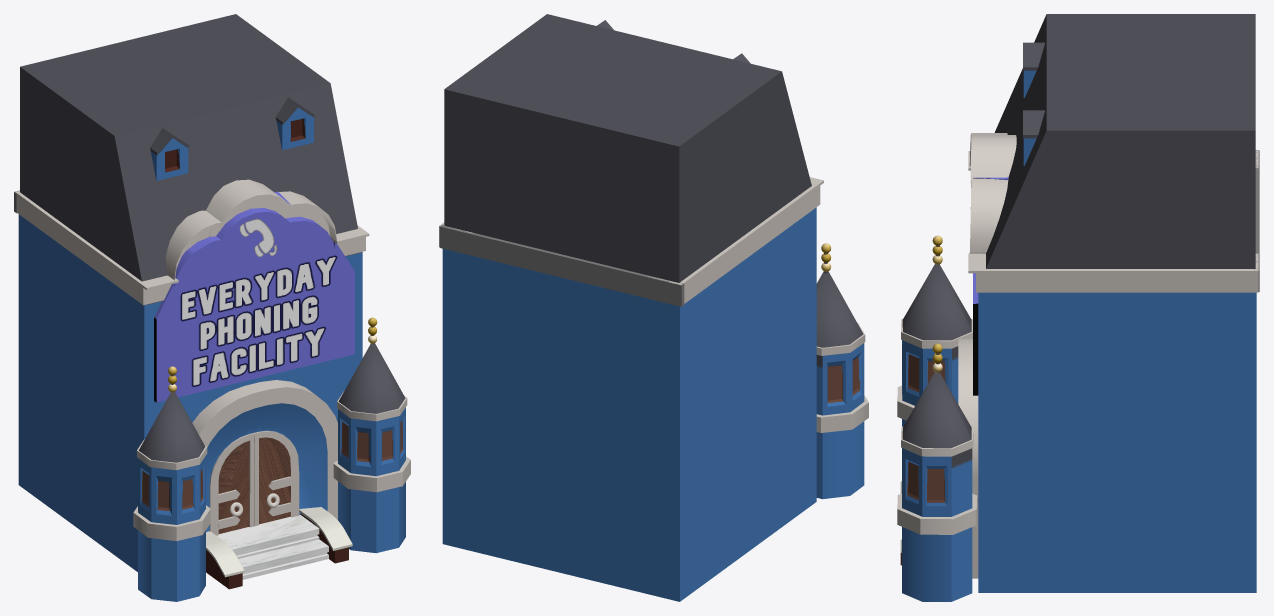
File: Edificio.obj
3 views of the same model, side by side, from view 1: azimuth 30°, elevation 25°; view 2: azimuth 150°, elevation 25°; view 3: azimuth 270°, elevation 25° (orthographic). The views are drawn at different scales.
Parts seen in each view (by area): view 1: polySurface1, pCube1, polySurface13, pasted__pasted__pasted__pasted__pCube3 pasted__pasted__pasted__g, group39 pasted__pasted__pasted__pCube3 pasted__pasted__group36 p, pCube2, pasted__pCube2 group24, polySurface24, polySurface3, pasted__polySurface5 group15, polySurface29, polySurface26 (+8 smaller); view 2: pCube1, polySurface1, group39 pasted__pasted__pasted__pCube3 pasted__pasted__group36 p, pasted__pCube3 group9, pasted__polySurface5 group15, pasted__pasted__pCube3 pasted__group31 group39; view 3: pCube1, polySurface1, pasted__pasted__pasted__pasted__pCube3 pasted__pasted__pasted__g, polySurface5, group39 pasted__pasted__pasted__pCube3 pasted__pasted__group36 p, polySurface3, pasted__pCube2 group24, pasted__pasted__pCube3 pasted__group31 group37, polySurface13, pasted__pasted__pasted__pCube3 pasted__pasted__group31 pasted__g, pasted__pCube3 group9, pasted__polySurface15 group21 (+1 smaller).
Part boxes in pixels (x1=…): polySurface1: x1=20, y1=14, x2=362, y2=304; pCube1: x1=18, y1=214, x2=362, y2=571; polySurface13: x1=154, y1=191, x2=354, y2=402; pasted__pasted__pasted__pasted__pCube3 pasted__pasted__pasted__g: x1=137, y1=343, x2=405, y2=553; group39 pasted__pasted__pasted__pCube3 pasted__pasted__group36 p: x1=138, y1=392, x2=205, y2=601; pCube2: x1=206, y1=403, x2=327, y2=533; pasted__pCube2 group24: x1=192, y1=380, x2=337, y2=519; polySurface24: x1=217, y1=515, x2=328, y2=579; polySurface3: x1=166, y1=179, x2=336, y2=280; pasted__polySurface5 group15: x1=16, y1=191, x2=178, y2=305; polySurface29: x1=209, y1=430, x2=299, y2=535; polySurface26: x1=206, y1=531, x2=244, y2=589; pCube1: x1=442, y1=207, x2=816, y2=601; polySurface1: x1=444, y1=14, x2=811, y2=282; group39 pasted__pasted__pasted__pCube3 pasted__pasted__group36 p: x1=816, y1=271, x2=864, y2=499; pasted__pCube3 group9: x1=440, y1=224, x2=684, y2=306; pasted__polySurface5 group15: x1=648, y1=177, x2=823, y2=303; pasted__pasted__pCube3 pasted__group31 group39: x1=816, y1=395, x2=868, y2=432; pCube1: x1=978, y1=292, x2=1256, y2=592; polySurface1: x1=986, y1=14, x2=1255, y2=268; pasted__pasted__pasted__pasted__pCube3 pasted__pasted__pasted__g: x1=901, y1=318, x2=972, y2=601; polySurface5: x1=968, y1=253, x2=1258, y2=292; group39 pasted__pasted__pasted__pCube3 pasted__pasted__group36 p: x1=902, y1=264, x2=971, y2=426; polySurface3: x1=969, y1=133, x2=1016, y2=253; pasted__pCube2 group24: x1=958, y1=338, x2=978, y2=578; pasted__pasted__pCube3 pasted__group31 group37: x1=897, y1=493, x2=977, y2=534; polySurface13: x1=973, y1=177, x2=1008, y2=395; pasted__pasted__pasted__pCube3 pasted__pasted__group31 pasted__g: x1=901, y1=426, x2=973, y2=456; pasted__pCube3 group9: x1=1254, y1=150, x2=1259, y2=291; pasted__polySurface15 group21: x1=1023, y1=42, x2=1044, y2=70.
Size of the model in its own units: 4.41 by 6.73 by 4.77.
